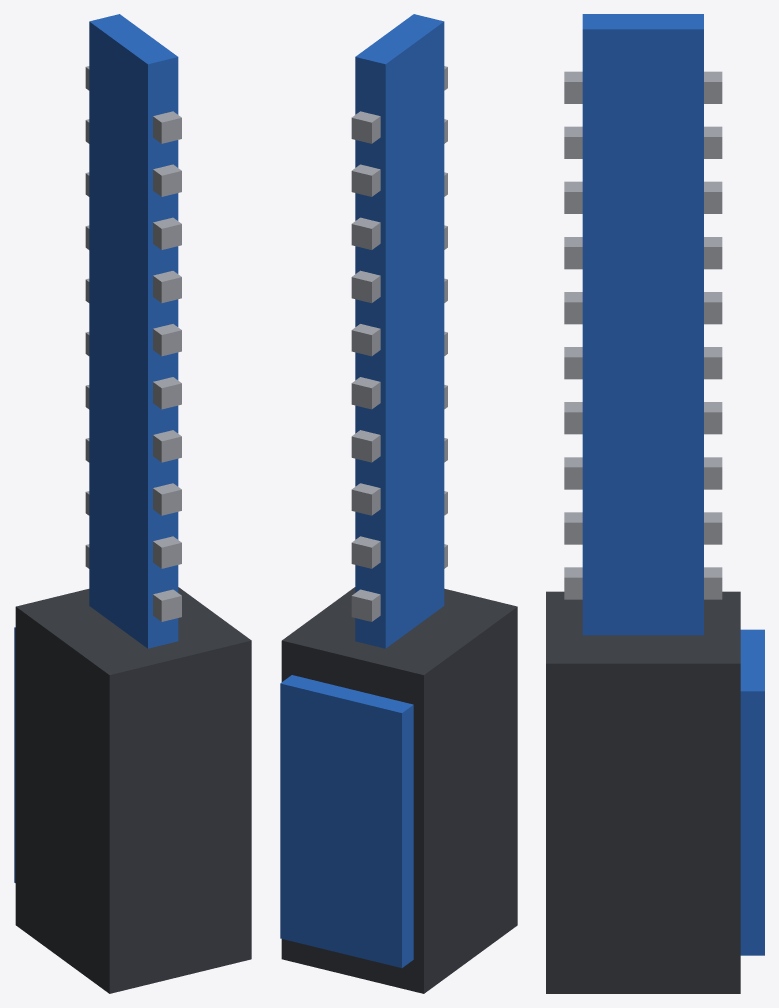
The model's file is cobalt_chainsaw.glb.
3 views of the same model, side by side, from view 1: azimuth 30°, elevation 25°; view 2: azimuth 150°, elevation 25°; view 3: azimuth 270°, elevation 25° (orthographic). The views are drawn at different scales.
Parts seen in each view (by area): view 1: cobalt_chainsaw_v0; view 2: cobalt_chainsaw_v0; view 3: cobalt_chainsaw_v0.
Part boxes in pixels (x1=…): cobalt_chainsaw_v0: x1=14, y1=14, x2=251, y2=993; cobalt_chainsaw_v0: x1=280, y1=14, x2=517, y2=993; cobalt_chainsaw_v0: x1=546, y1=14, x2=764, y2=993.
Size of the model in its own units: 0.14 by 0.85 by 0.18.
